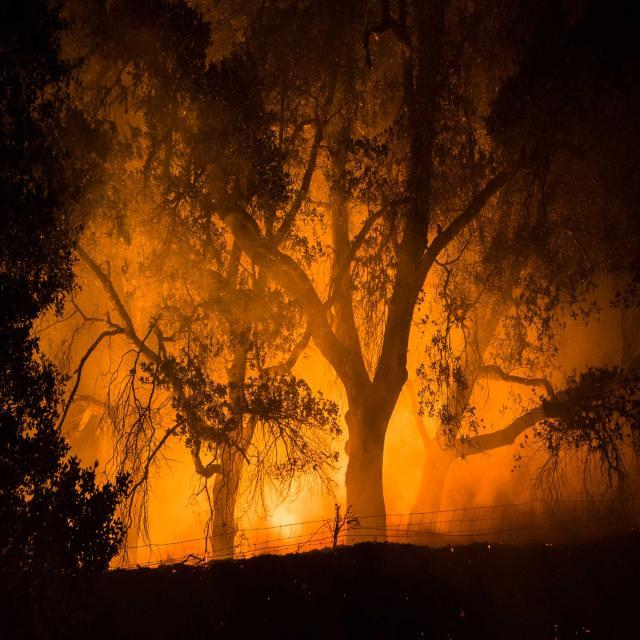Fire: (260, 478, 314, 546)
Smoke: (27, 29, 628, 532)
